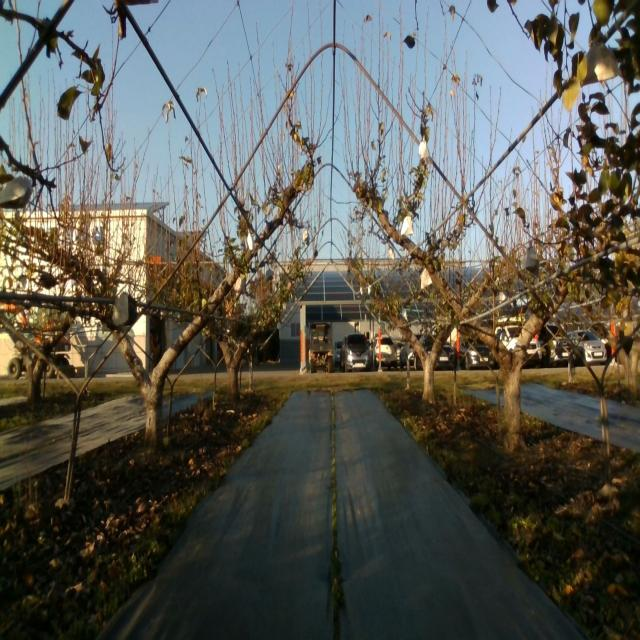pearbags: (581, 40, 621, 89), (0, 174, 33, 208), (522, 242, 541, 276), (418, 135, 432, 166), (420, 266, 433, 291), (401, 212, 414, 236)
